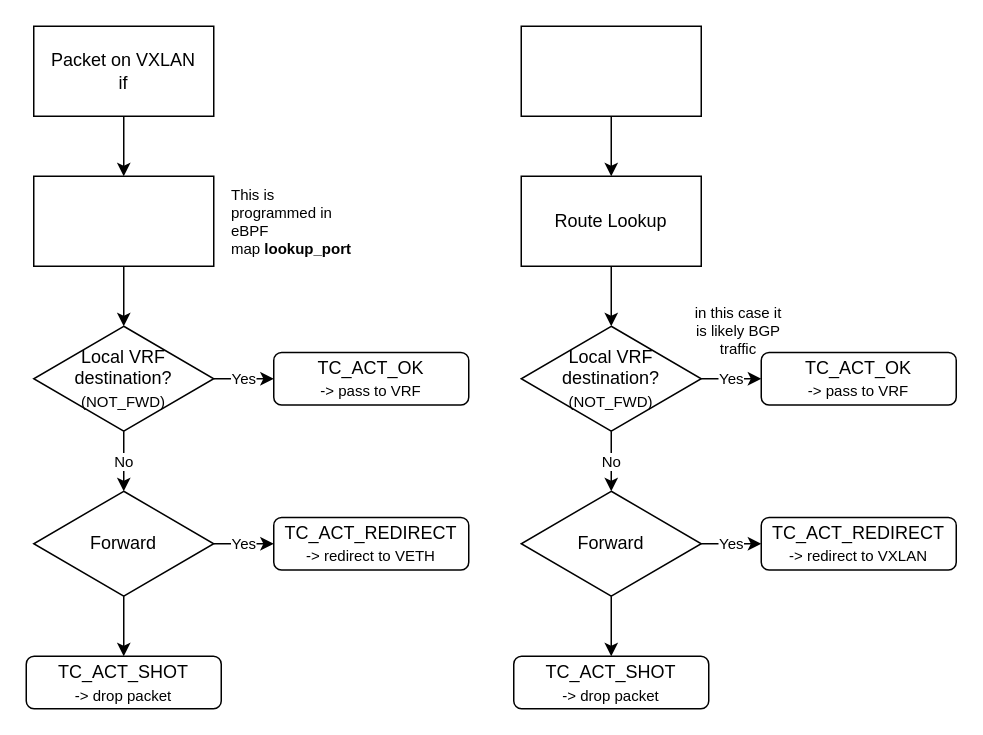
The diagram is 983 pixels wide and 735 high, and some of its shapes have lost their labels. Here are the shapes that lost their labels. From the top down, the centre of each, then its label:
[610,70]: Packet on VETH if
[123,220]: Route Lookup ( sourceif is overwritten to Bridge )
